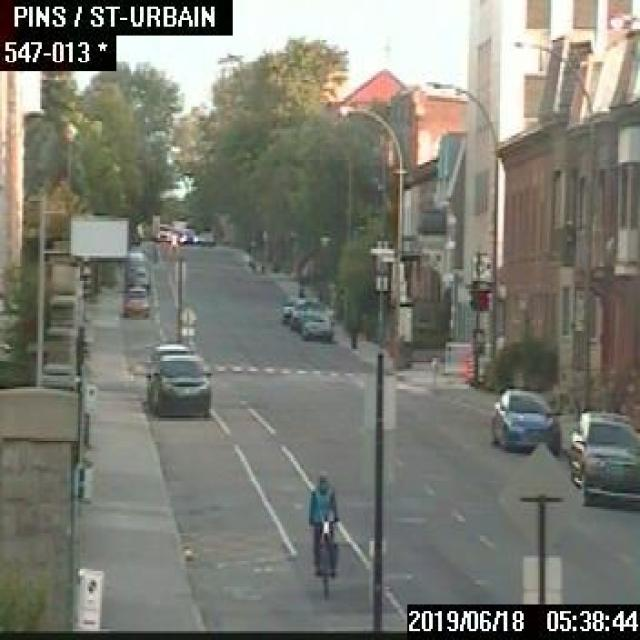construction: (463, 354, 473, 382)
cyclist: (304, 474, 336, 596)
vehicle: (569, 409, 638, 506), (491, 387, 558, 451), (151, 352, 209, 418), (144, 338, 192, 402), (290, 297, 322, 330), (302, 311, 334, 340), (122, 284, 149, 316), (125, 250, 150, 284), (279, 292, 308, 320), (154, 222, 170, 240), (178, 227, 195, 243), (199, 228, 213, 244)
